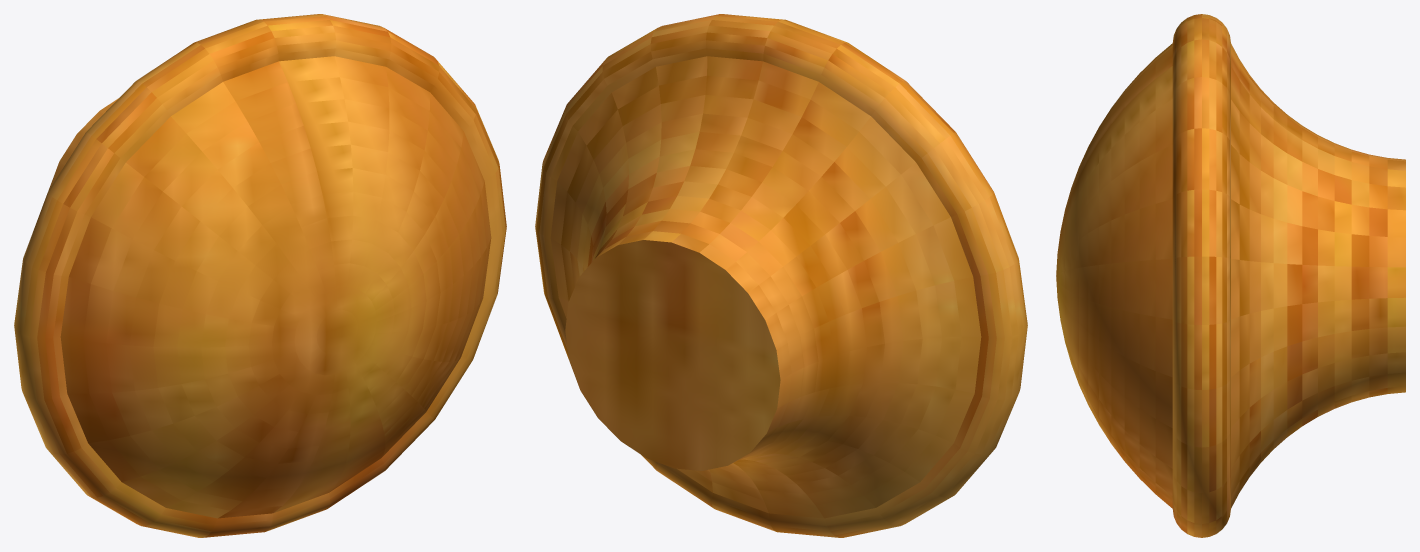
The model's file is original-3.obj.
3 renders of one model, left to right at view 1: azimuth 30°, elevation 25°; view 2: azimuth 150°, elevation 25°; view 3: azimuth 270°, elevation 25°, orthographic. The views are drawn at different scales.
Parts seen in each view (by area): view 1: Drawer_pull1/Drawer_pull/mesh3/mesh3-geometry#mesh3-geometry; view 2: Drawer_pull1/Drawer_pull/mesh3/mesh3-geometry#mesh3-geometry; view 3: Drawer_pull1/Drawer_pull/mesh3/mesh3-geometry#mesh3-geometry.
Part boxes in pixels (x1,y1,x2,y2): Drawer_pull1/Drawer_pull/mesh3/mesh3-geometry#mesh3-geometry: (14, 14, 506, 537); Drawer_pull1/Drawer_pull/mesh3/mesh3-geometry#mesh3-geometry: (535, 14, 1027, 537); Drawer_pull1/Drawer_pull/mesh3/mesh3-geometry#mesh3-geometry: (1056, 14, 1405, 537).
Bounding box in the file's own units: 0.0385 × 0.0385 × 0.0256.
